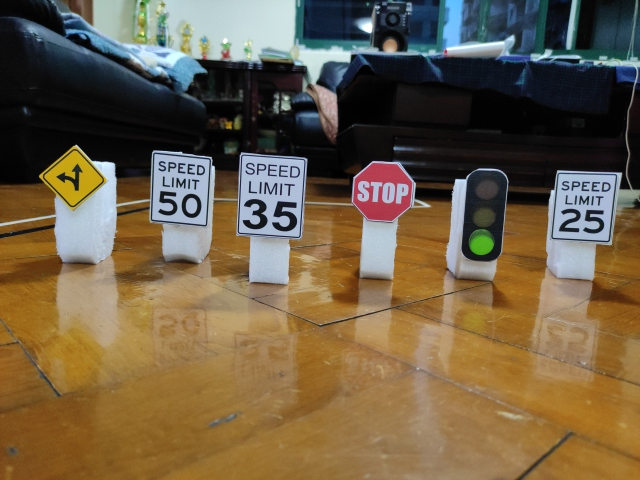Green Traffic Light: (461, 169, 507, 261)
Speed Limit 25: (552, 171, 617, 242)
Speed Limit 35: (236, 153, 308, 239)
Speed Limit 50: (148, 151, 213, 227)
Stop Sign: (351, 161, 415, 222)
Straight Or Left Sign: (38, 146, 107, 209)
